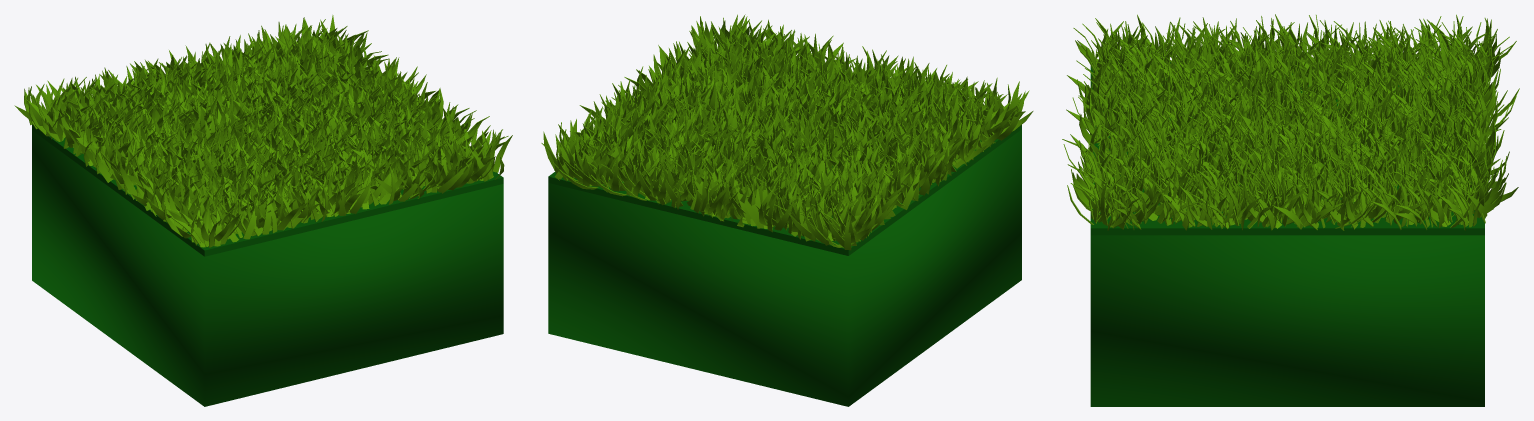
File: grass.fbx
3 views of the same model, side by side, from view 1: azimuth 30°, elevation 25°; view 2: azimuth 150°, elevation 25°; view 3: azimuth 270°, elevation 25° (orthographic). The views are drawn at different scales.
Parts seen in each view (by area): view 1: Cube, grassplane; view 2: Cube, grassplane; view 3: Cube, grassplane.
Boxes of the visible parts, left/top/right/bottom form: Cube: left=32, top=130, right=503, bottom=406; grassplane: left=32, top=124, right=503, bottom=256; Cube: left=548, top=129, right=1021, bottom=406; grassplane: left=548, top=125, right=1021, bottom=255; Cube: left=1090, top=235, right=1484, bottom=406; grassplane: left=1090, top=62, right=1484, bottom=235.
Size of the model in its own units: 58.07 by 31.13 by 58.03.
